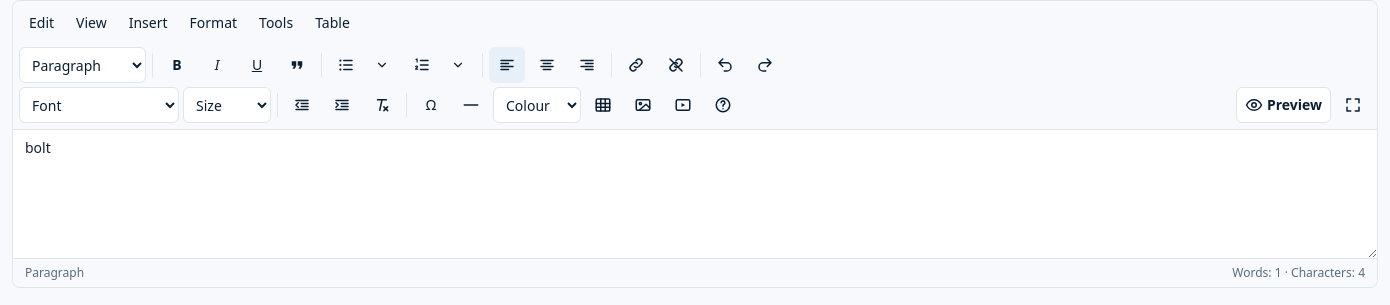
Test: MarkdownTextarea inline formatting › underlines with the tag the renderer allows
The image size is (1390, 305).
Click the button named "Underline".
click(257, 65)  # box [239,47,275,83]
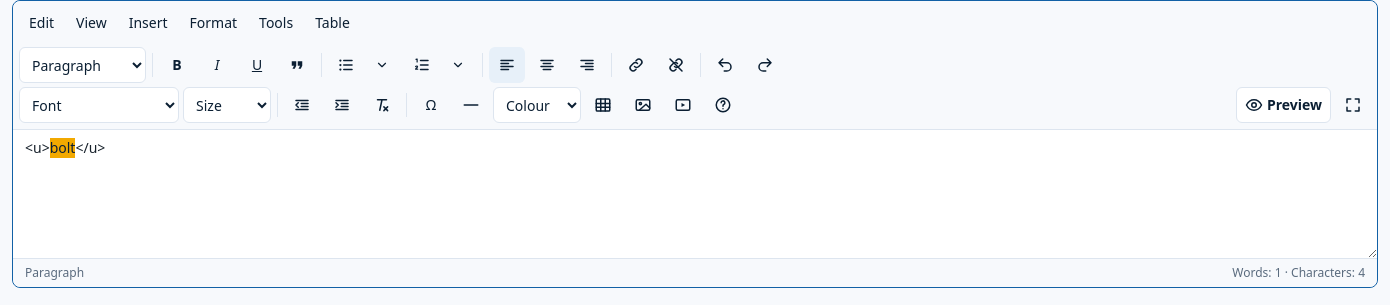
Expected: the text box named "Body" holds "<u>bolt</u>", [13,130,1377,258]
